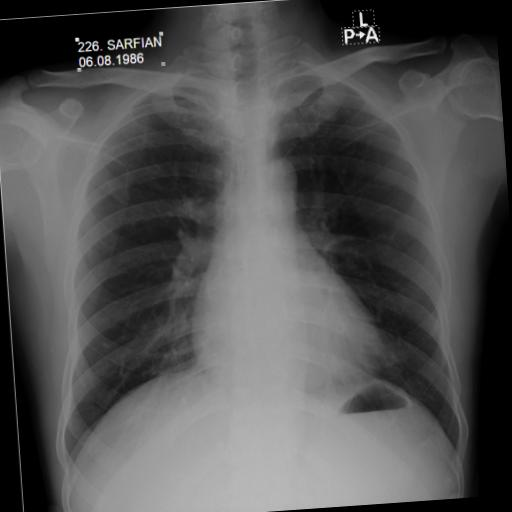normal: (16, 22, 478, 483)
